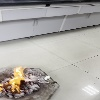fire: (0, 66, 26, 93)
